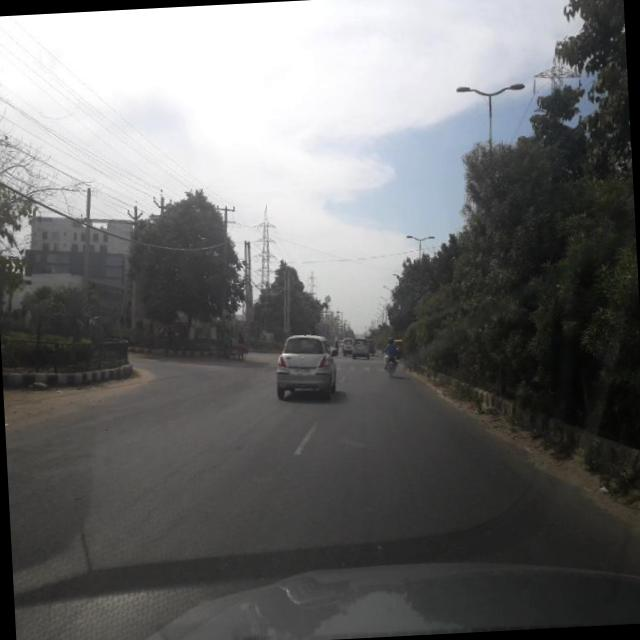crack: (5, 382, 600, 584)
